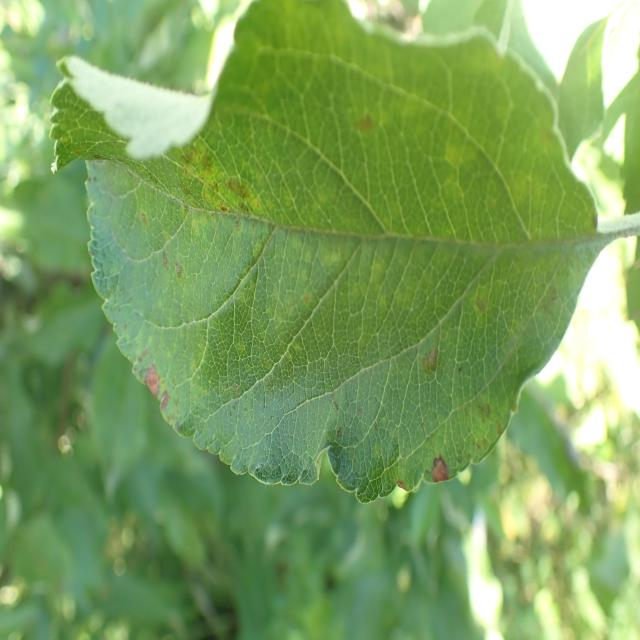frog-eye-leaf-spot: (46, 0, 598, 503)
